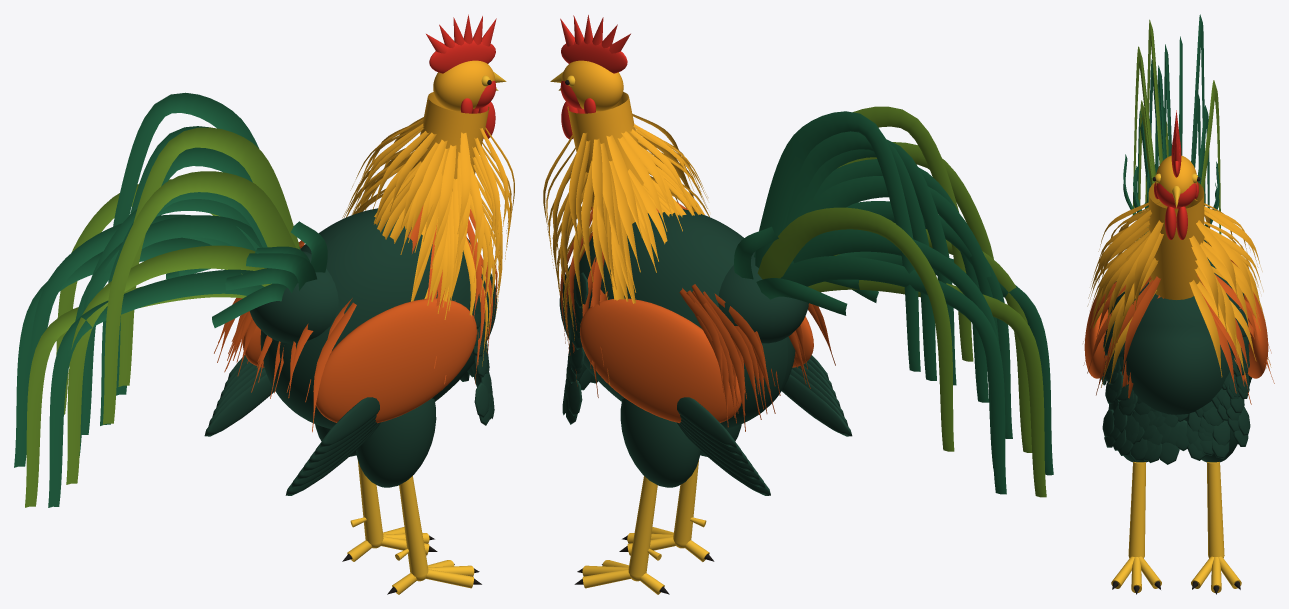
Rendered from ayam_jantan.glb.
3 renders of one model, left to right at view 1: azimuth 30°, elevation 25°; view 2: azimuth 150°, elevation 25°; view 3: azimuth 270°, elevation 25°, orthographic. The views are drawn at different scales.
Parts seen in each view (by area): view 1: tail_sickles, tail_highlights, hackles_gold, wing_R, body, thigh_R, tail_base, wing_primaries_R, saddle_hackles, wing_primaries_L, neck, head (+5 smaller); view 2: tail_sickles, tail_highlights, hackles_gold, wing_L, body, saddle_hackles, thigh_L, tail_base, wing_primaries_L, wing_primaries_R, neck, breast_feathers (+5 smaller); view 3: hackles_gold, breast_feathers, body, tail_sickles, neck, hackles_orange, tail_highlights, shank_L, shank_R, wing_L, wing_R, head (+10 smaller).
Part boxes in pixels (box(x1,y1,x2,y2)): tail_sickles: box(14, 92, 327, 507); tail_highlights: box(25, 127, 299, 507); hackles_gold: box(342, 117, 514, 366); wing_R: box(316, 298, 476, 423); body: box(260, 208, 497, 428); thigh_R: box(356, 398, 436, 487); tail_base: box(249, 251, 338, 343); wing_primaries_R: box(285, 397, 381, 495); saddle_hackles: box(214, 240, 356, 432); wing_primaries_L: box(204, 355, 274, 436); neck: box(411, 92, 489, 191); head: box(433, 60, 495, 111); tail_sickles: box(734, 111, 1053, 494); tail_highlights: box(757, 106, 1046, 497); hackles_gold: box(543, 114, 709, 385); wing_L: box(579, 298, 741, 423); body: box(559, 209, 795, 428); saddle_hackles: box(679, 284, 835, 431); thigh_L: box(620, 398, 700, 487); tail_base: box(718, 251, 808, 343); wing_primaries_L: box(675, 397, 770, 495); wing_primaries_R: box(782, 355, 852, 436); neck: box(567, 92, 647, 223); breast_feathers: box(562, 272, 598, 424); hackles_gold: box(1087, 199, 1271, 387); breast_feathers: box(1102, 309, 1250, 464); body: box(1108, 240, 1244, 420); tail_sickles: box(1123, 14, 1219, 240); neck: box(1148, 182, 1204, 299); hackles_orange: box(1083, 274, 1274, 404); tail_highlights: box(1132, 19, 1221, 239); shank_L: box(1207, 462, 1224, 557); shank_R: box(1128, 462, 1145, 557); wing_L: box(1244, 292, 1268, 378); wing_R: box(1084, 295, 1108, 378); head: box(1155, 155, 1197, 193).
Size of the model in its own units: 0.6128 by 0.6494 by 0.2344.
